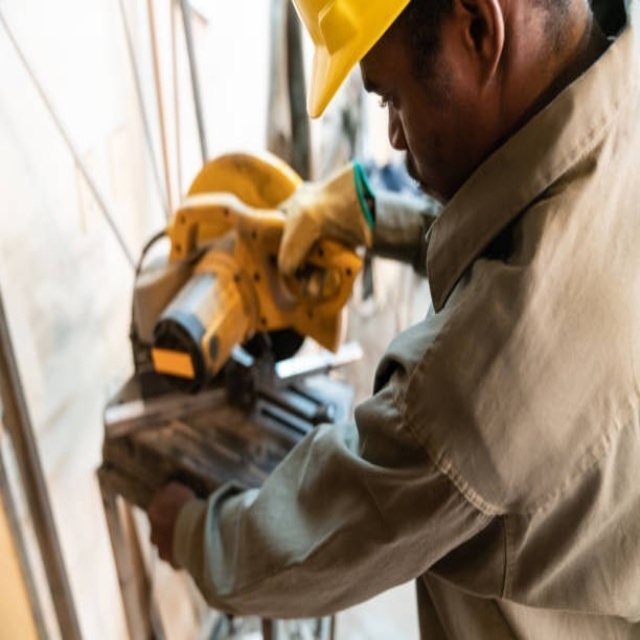Guantes: (278, 152, 379, 287)
Sin_gafas: (365, 13, 435, 127)
Sin_guantes: (145, 479, 199, 566)
Sin_mascara: (387, 129, 456, 204)
